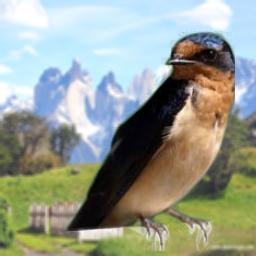Swallow: (65, 31, 235, 251)
